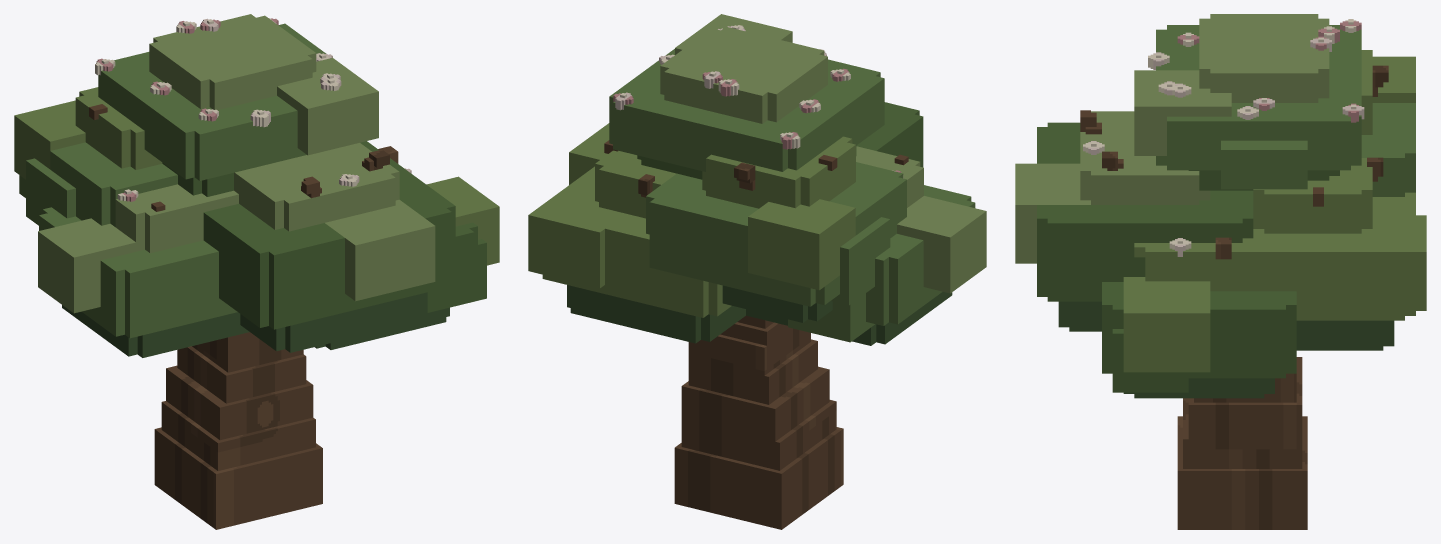
File: apple_mature_spring_2.glb
3 views of the same model, side by side, from view 1: azimuth 30°, elevation 25°; view 2: azimuth 150°, elevation 25°; view 3: azimuth 270°, elevation 25° (orthographic). The views are drawn at different scales.
Visible parts, largest first — view 1: VoxelVisual; view 2: VoxelVisual; view 3: VoxelVisual.
Part boxes in pixels (x1,y1,x2,y2): VoxelVisual: [14, 14, 499, 529]; VoxelVisual: [528, 14, 986, 529]; VoxelVisual: [1015, 14, 1426, 529].
Size of what is drawn, in the model's own units: 11.25 by 11.94 by 9.5.
